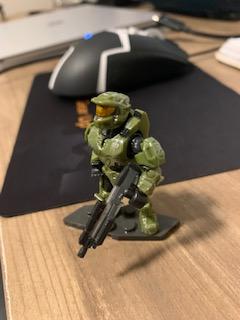chief: (83, 89, 167, 238)
rifle: (76, 161, 146, 259)
spartan: (81, 87, 165, 236)
